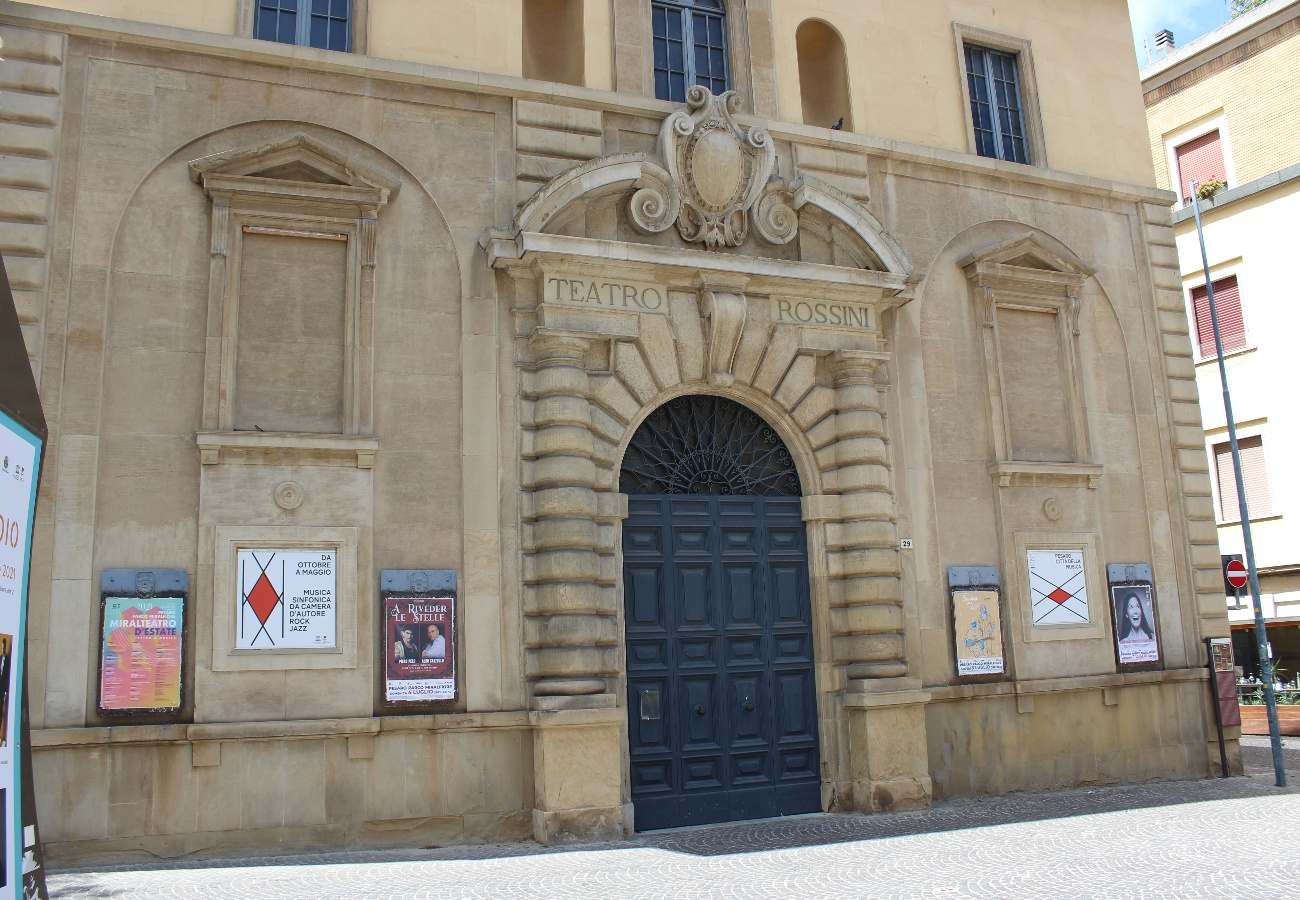Teatro Rossini: (1, 1, 1247, 868)
